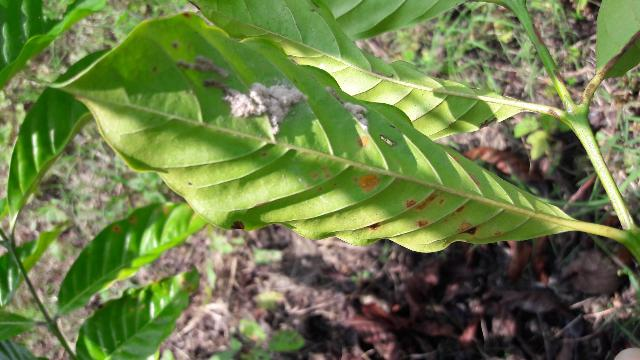rust_level_1: (60, 10, 572, 250)
